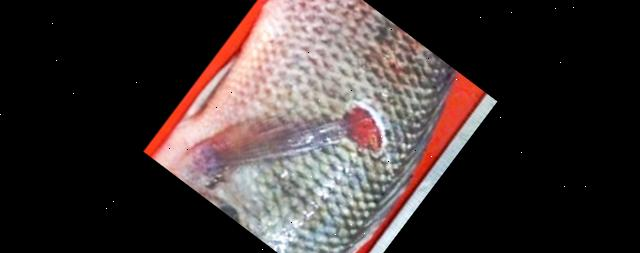Tilapia Lake Virus -TiLV-: (152, 0, 459, 253)
